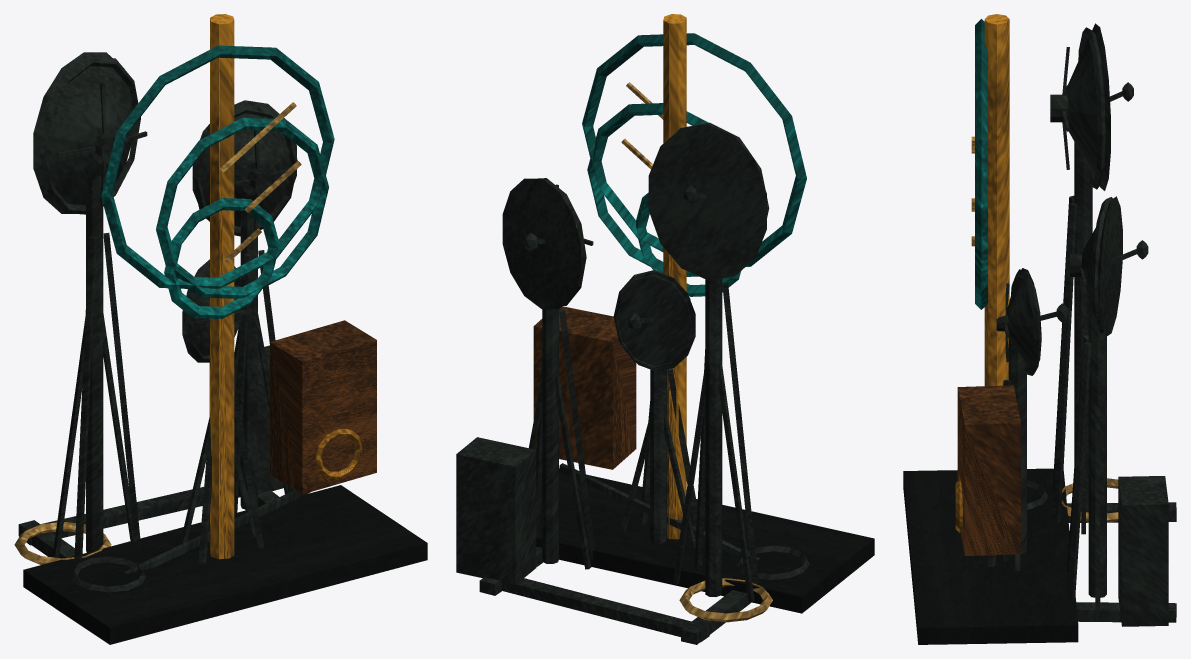
Rendered from east-echo-array.glb.
3 renders of one model, left to right at view 1: azimuth 30°, elevation 25°; view 2: azimuth 150°, elevation 25°; view 3: azimuth 270°, elevation 25°, orthographic. The views are drawn at different scales.
Parts seen in each view (by area): view 1: east-echo-array; view 2: east-echo-array; view 3: east-echo-array.
Boxes of the visible parts, x1,y1,x2,y2 form: east-echo-array: (14, 14, 427, 644); east-echo-array: (456, 14, 874, 644); east-echo-array: (903, 14, 1176, 644).
Size of the model in its own units: 4.83 by 7.75 by 3.49.
1 material, 1 textured.
